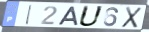2: (40, 5, 59, 26)
6: (103, 7, 120, 27)
A: (57, 5, 80, 26)
I: (24, 4, 34, 26)
U: (77, 5, 105, 28)
X: (120, 6, 143, 29)
